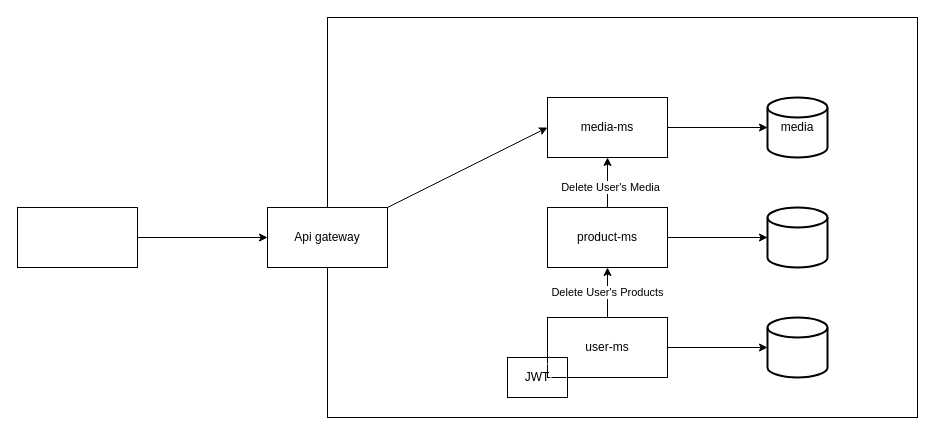
Image size: 935x435. Some labels were removed from this diagram. Here are the shapes that lost their labels. From the top down, the centre of each, then its label:
(x=77, y=237): Client
(x=797, y=237): product
(x=797, y=347): users
